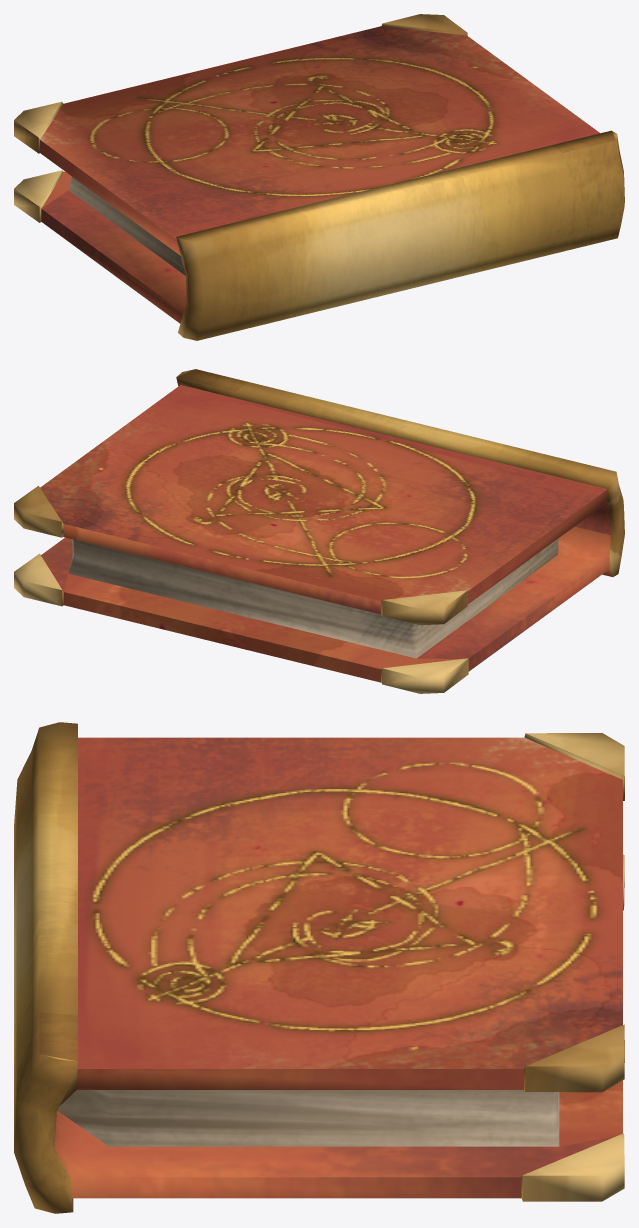
The model's file is Book_detail_1.fbx.
3 views of the same model, one above another, from view 1: azimuth 30°, elevation 25°; view 2: azimuth 150°, elevation 25°; view 3: azimuth 270°, elevation 25° (orthographic). The views are drawn at different scales.
Parts seen in each view (by area): view 1: BookDetail; view 2: BookDetail; view 3: BookDetail.
Part boxes in pixels (x1,y1,x2,y2): BookDetail: (14, 14, 624, 340); BookDetail: (14, 369, 624, 693); BookDetail: (14, 722, 624, 1213).
Bounding box in the file's own units: 30.96 × 6.68 × 23.66.
